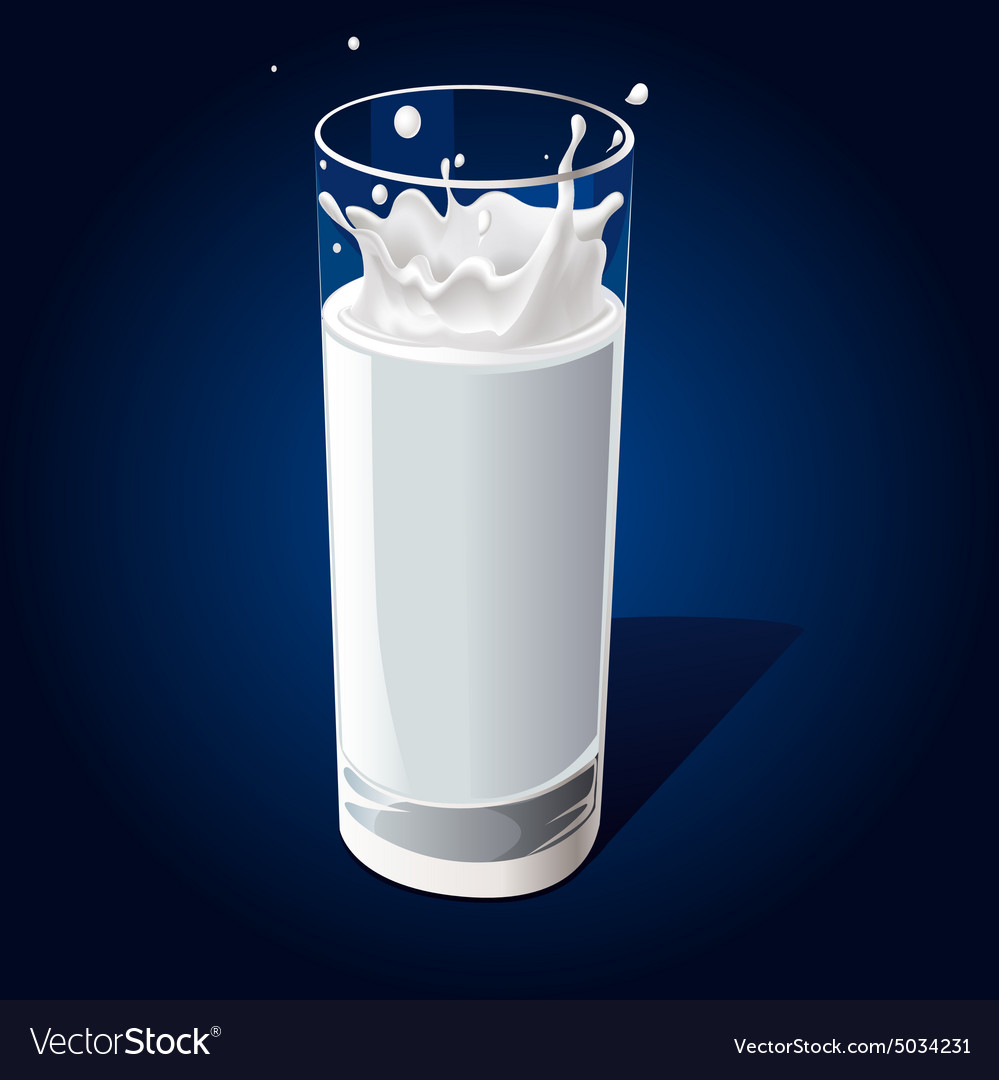glass of milk: (322, 160, 602, 837)
